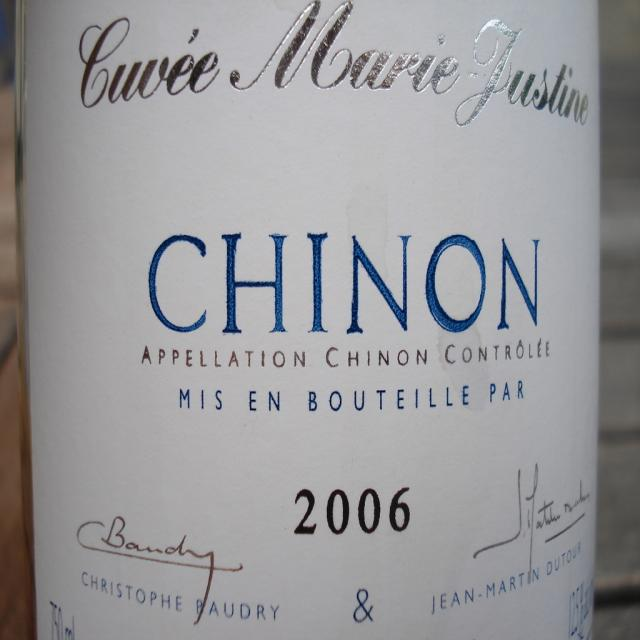Bottle: (13, 0, 598, 639)
